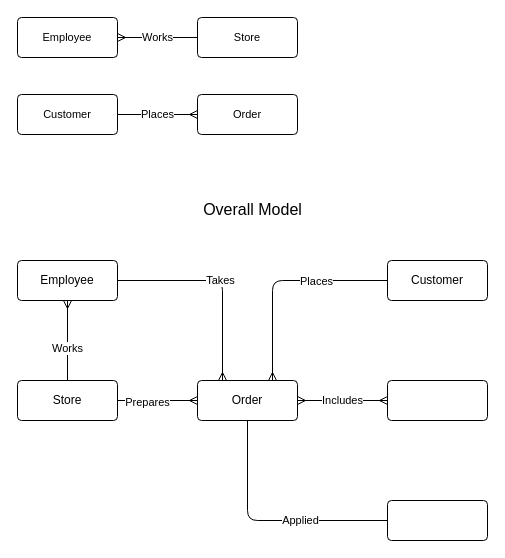
This 505x558 diagram has some shape labels left out. The shapes that lost their labels are listed below. From the top down, each one's centre as x and y in pixels, then its label:
(437,400): Product
(437,520): Coupon
